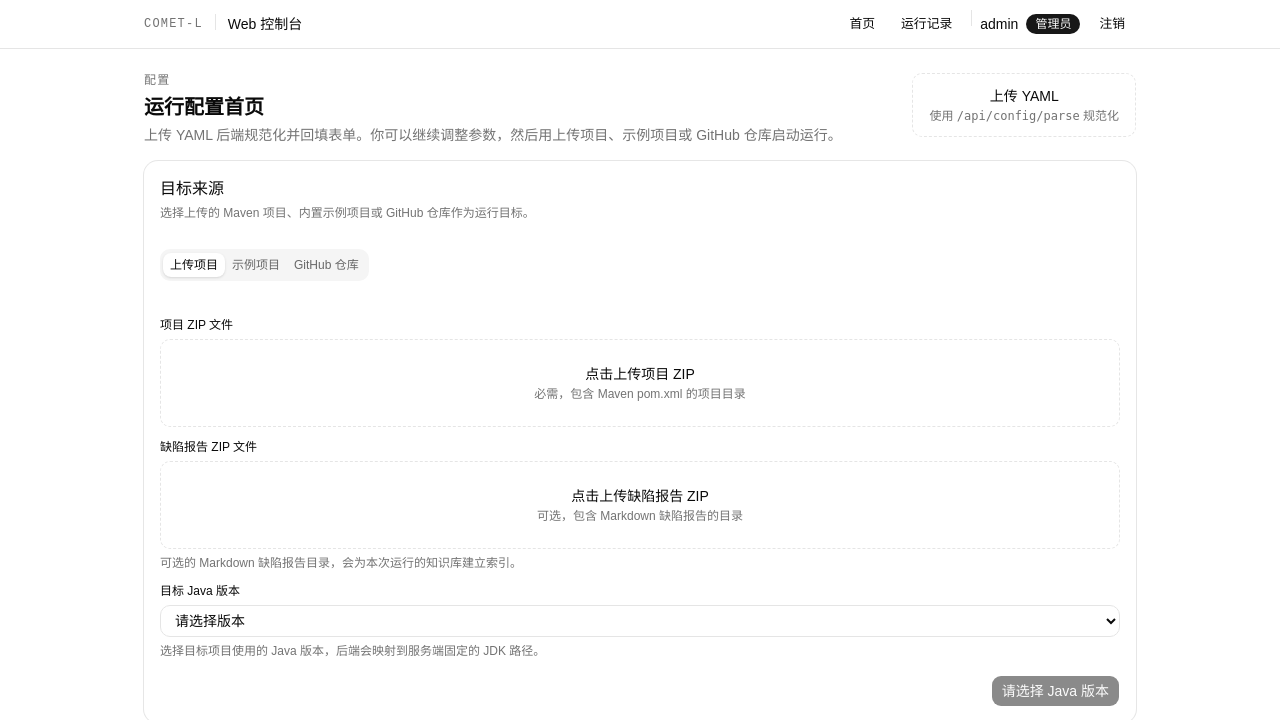
Test case: HomePage GitHub auth flow › disables repo inputs when not connected
The width and height of the screenshot is (1280, 720).
Expected: the file field named "上传项目 ZIP" is shown, [160,318,233,332]
Click the tab "GitHub 仓库". click: (326, 265)
box: [287,253,366,277]
(page scrolled)
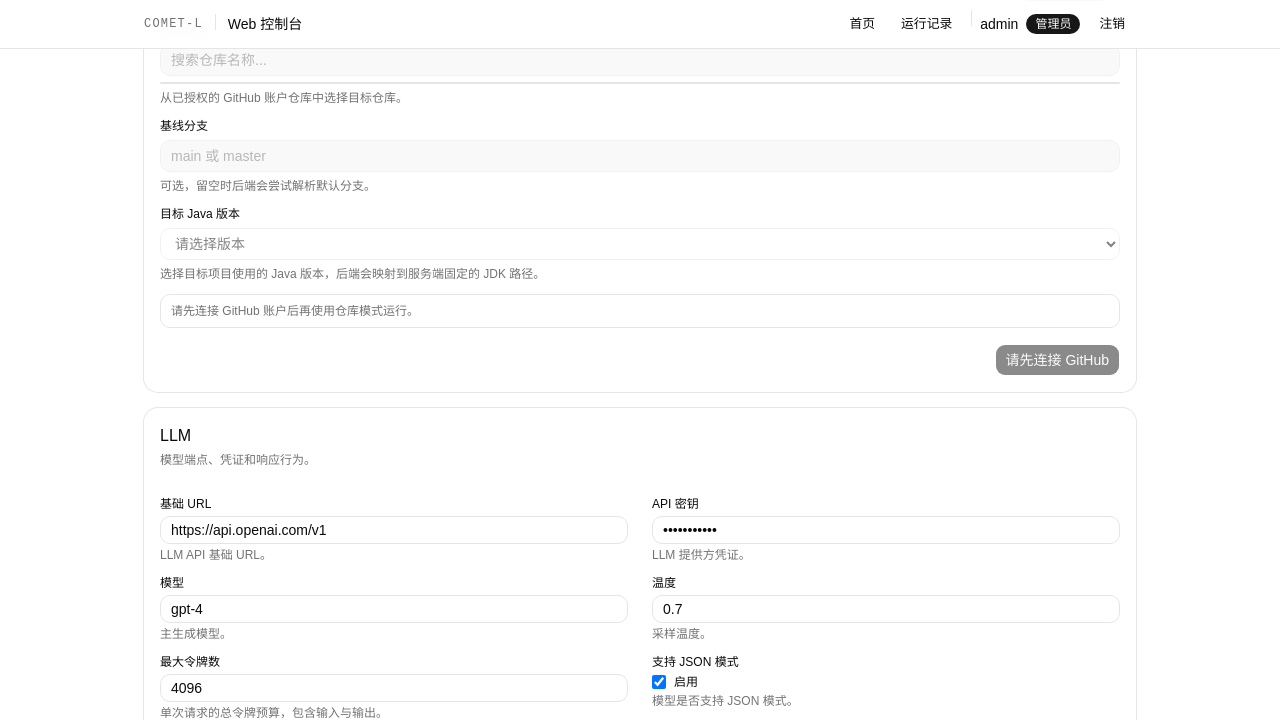
Expected: the button "请先连接 GitHub" is disabled, [994,344,1120,376]
Now the field with test id "repo-picker-filter" is disabled, box [160,44,1120,76]
Now the dropdown with test id "java-version-select" is disabled, box [160,228,1120,260]
